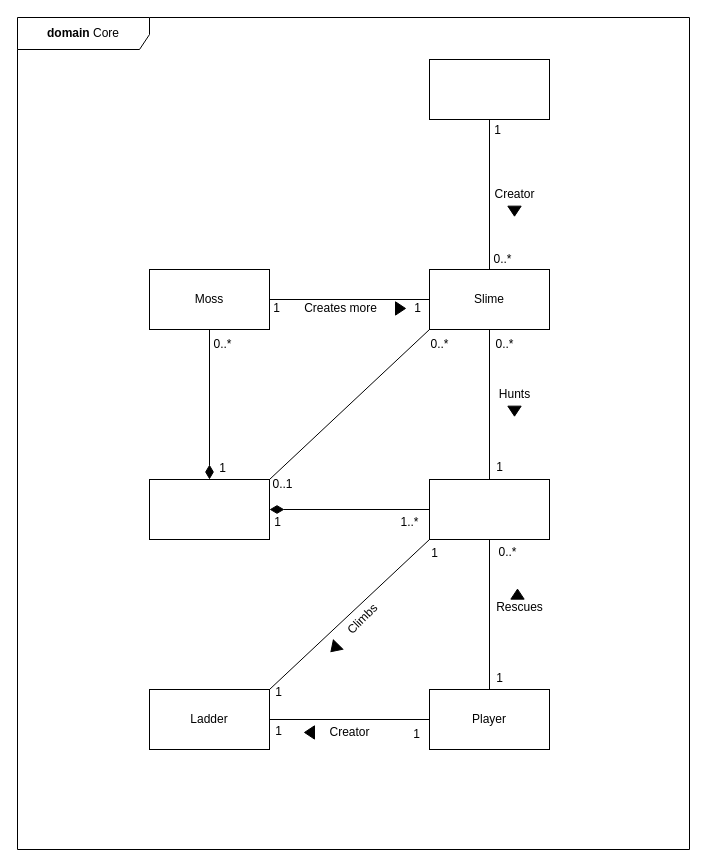
Image size: 707x867. Some labels were removed from this diagram. The centre of each missing label's shape, as x and y in pixels:
"Building" belongs at (x=209, y=509).
"Civilian" belongs at (x=489, y=509).
"Cloud" belongs at (x=489, y=89).
